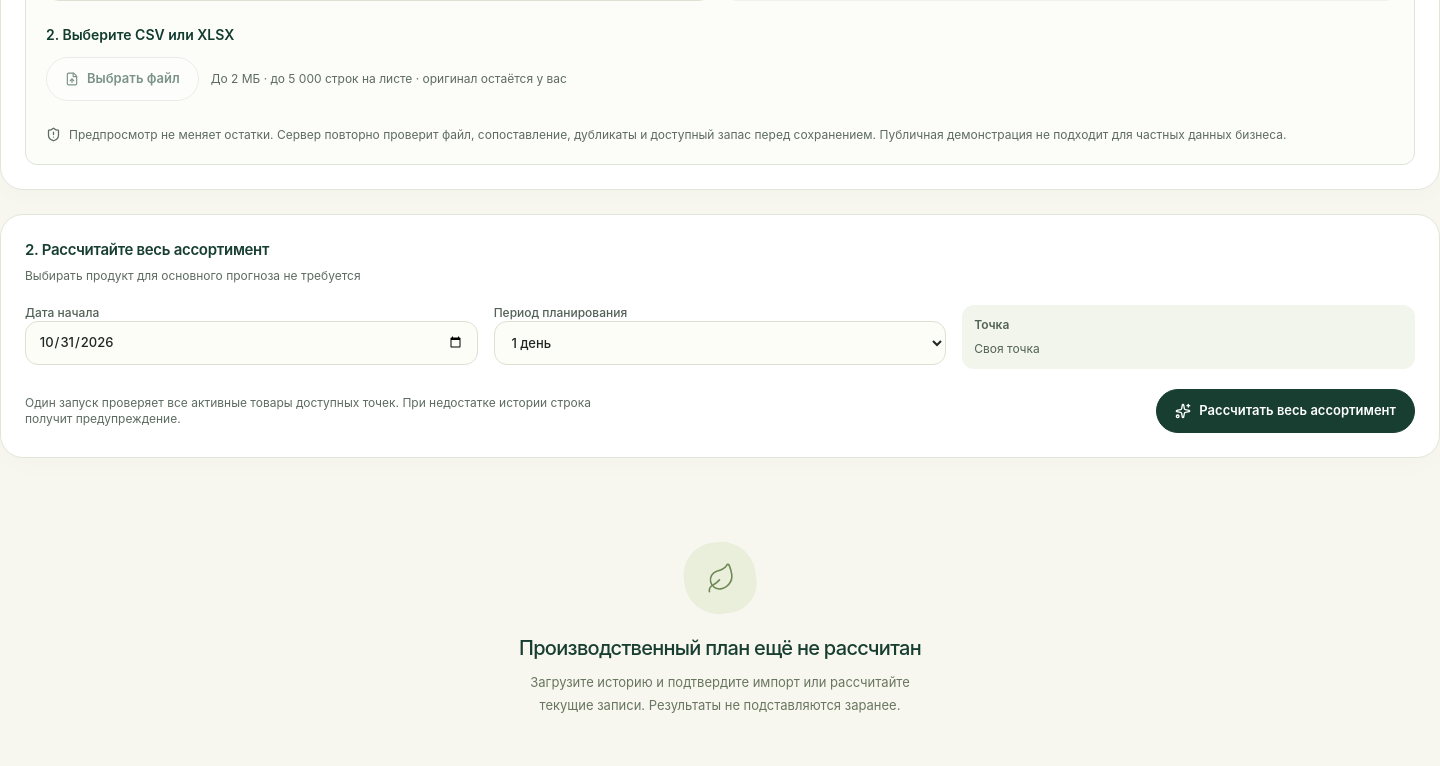
Test: automatic assortment planning › shows an authoritative server quota error without fabricated result rows
(page scrolled)
Click the button "Рассчитать весь ассортимент". click: click(1286, 411)
box: [1156, 389, 1415, 433]
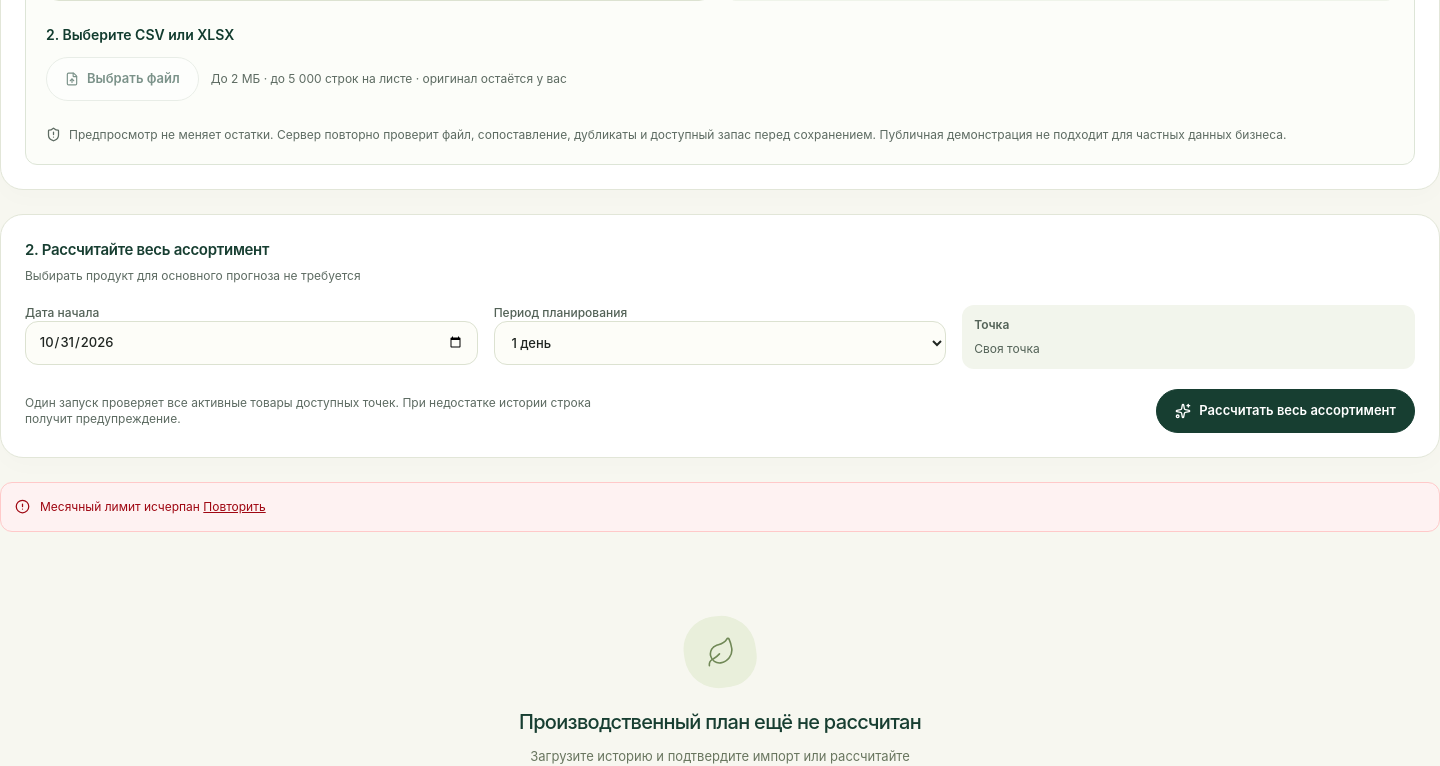
Expected: the text "Месячный лимит исчерпан Повторить" is shown, [40, 497, 266, 516]
